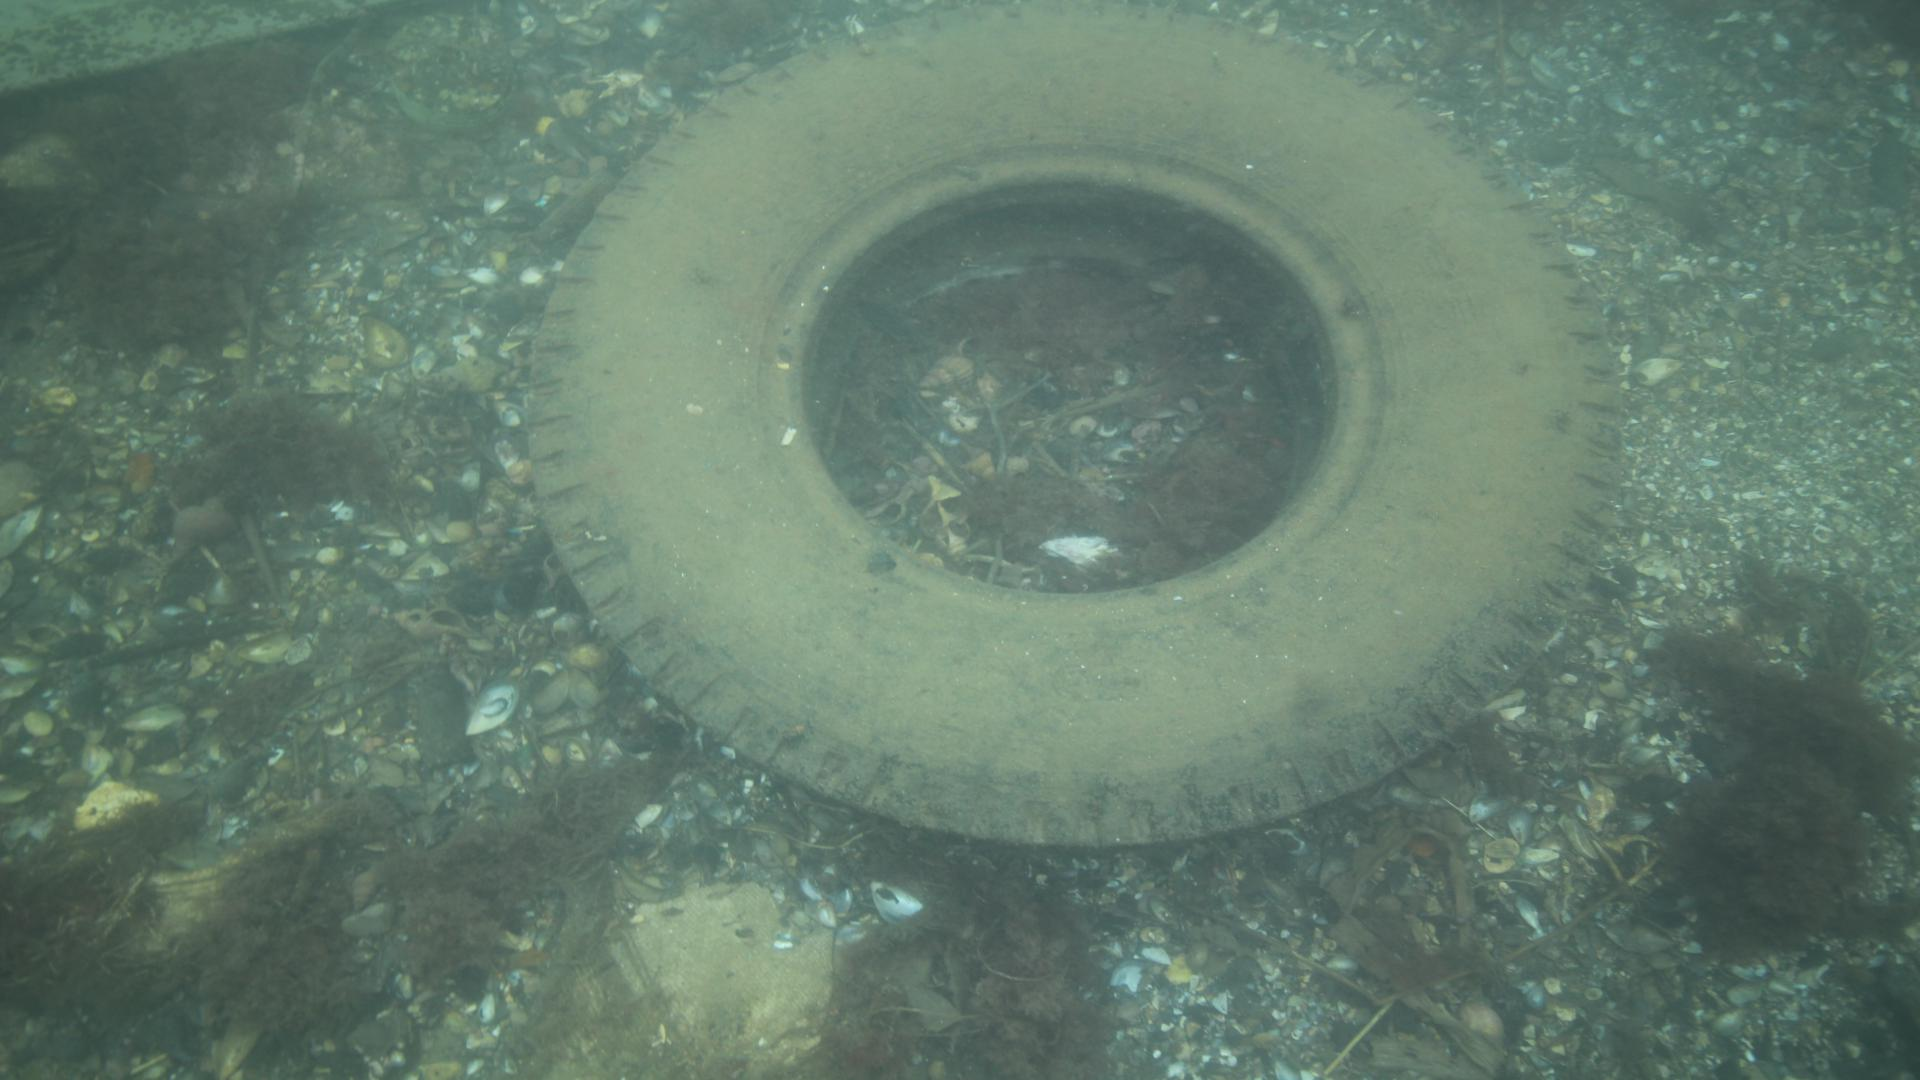tire: (524, 0, 1627, 860)
